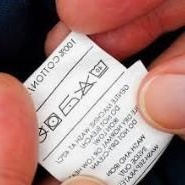40C: (88, 58, 109, 79)
DN_bleach: (75, 79, 97, 97)
iron_low: (58, 94, 80, 115)
tumble_dry_low: (43, 112, 64, 132)
